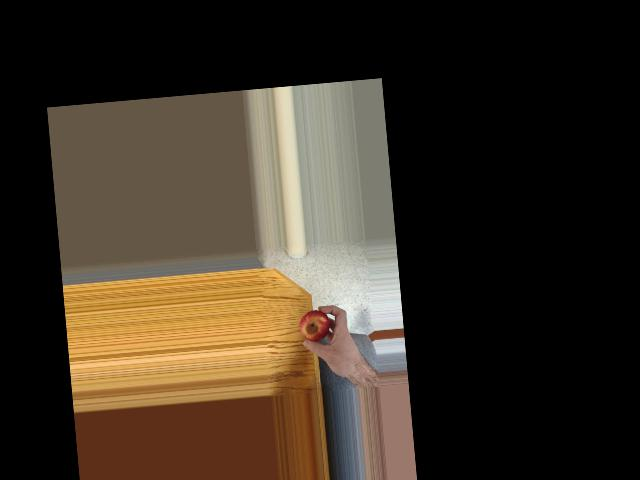apple: (298, 308, 329, 344)
